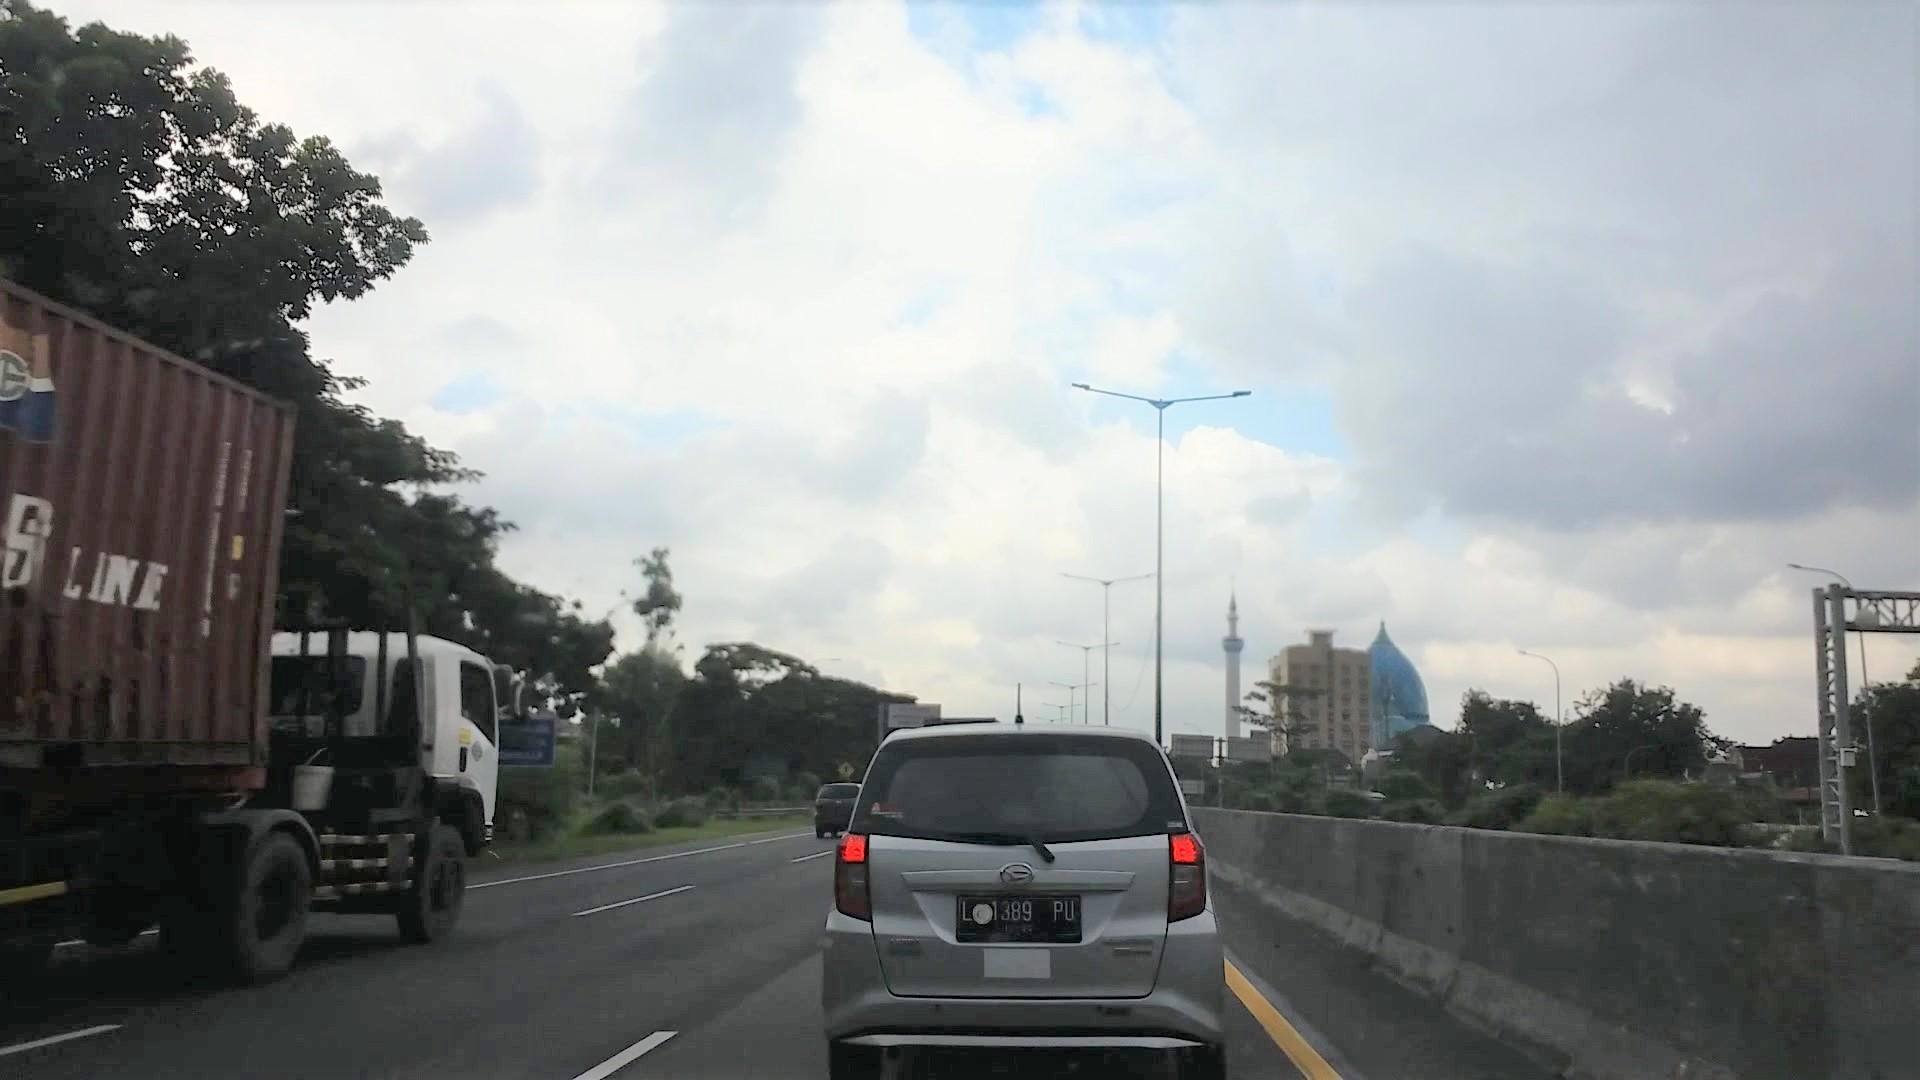plate_positive: (957, 893, 1083, 943)
